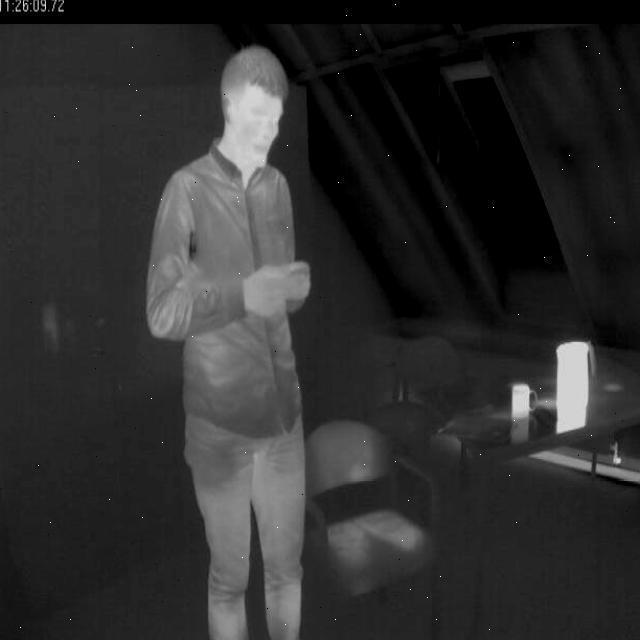person: (141, 38, 321, 640)
